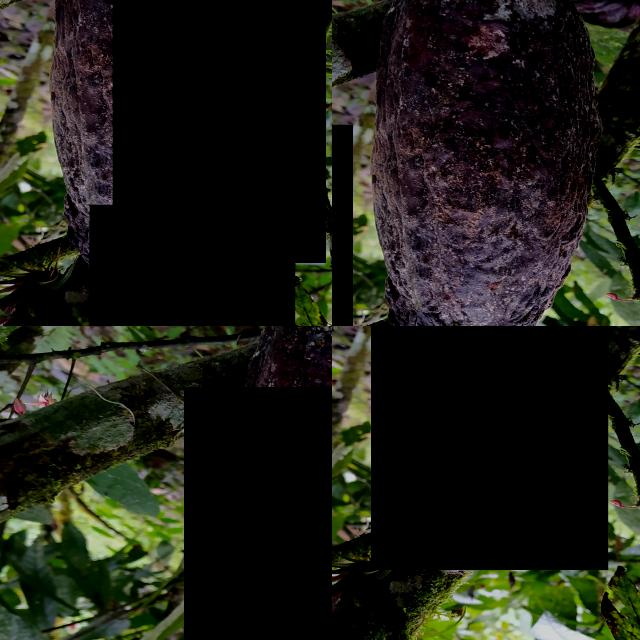Fitoftora: (371, 326, 608, 570), (113, 0, 326, 263)
Sana: (184, 387, 332, 640), (89, 204, 295, 326)
